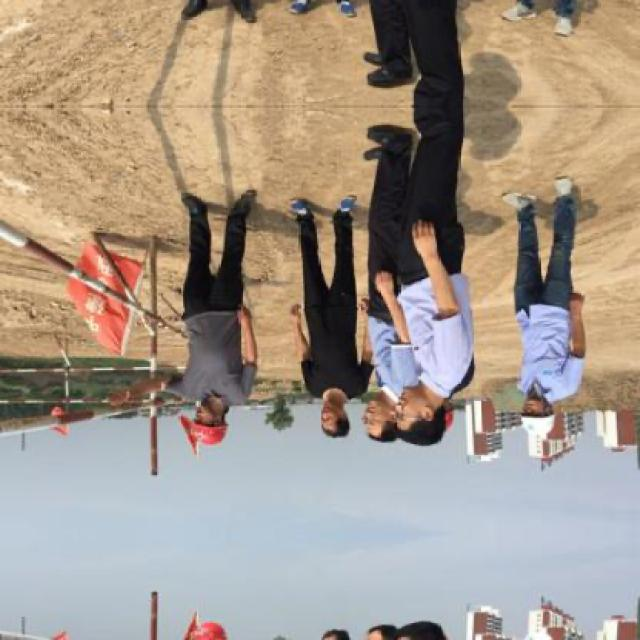con casco: (162, 398, 248, 456), (514, 386, 584, 439)
sin casco: (389, 397, 450, 443), (358, 411, 436, 441), (316, 405, 357, 435)
